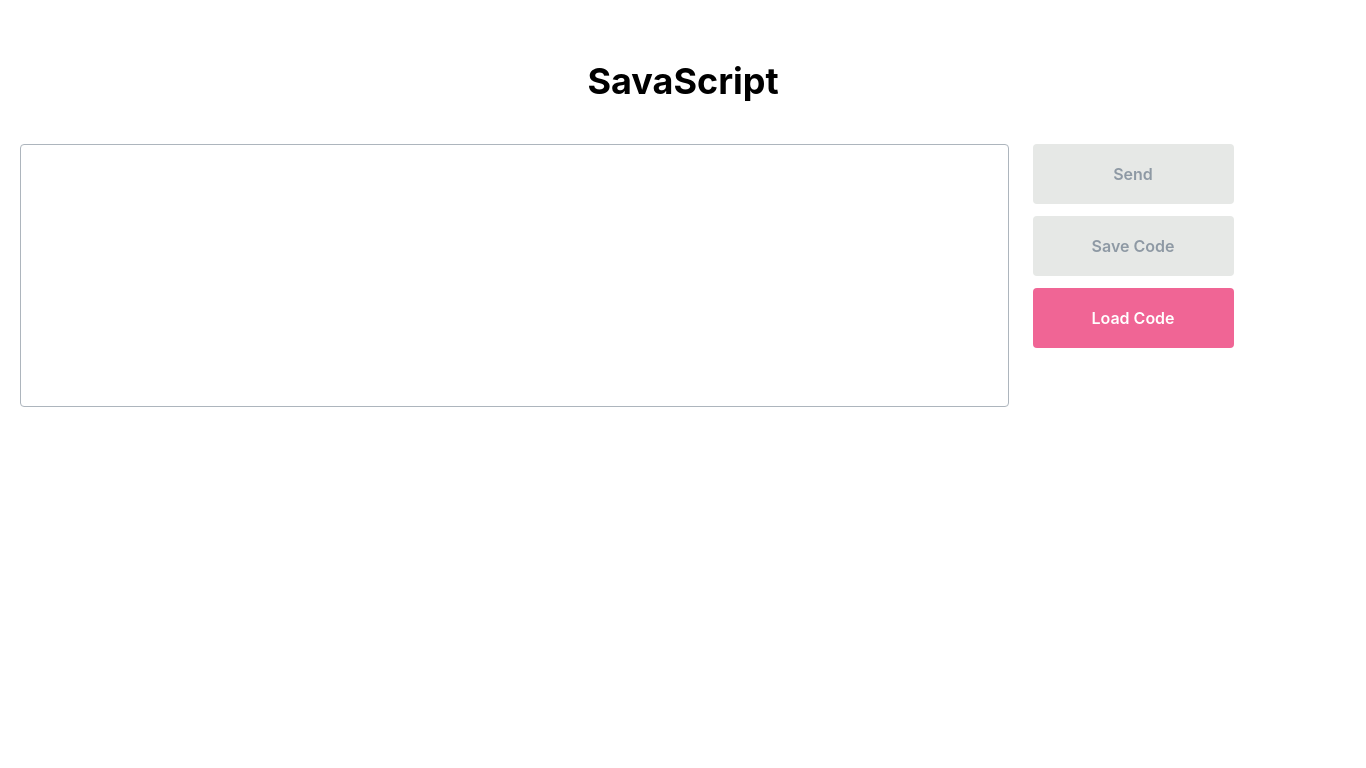
Test case: Button Load › Open modal
Click the button "Load Code" at (1134, 318), box top-left (1033, 288), bottom-right (1234, 348)
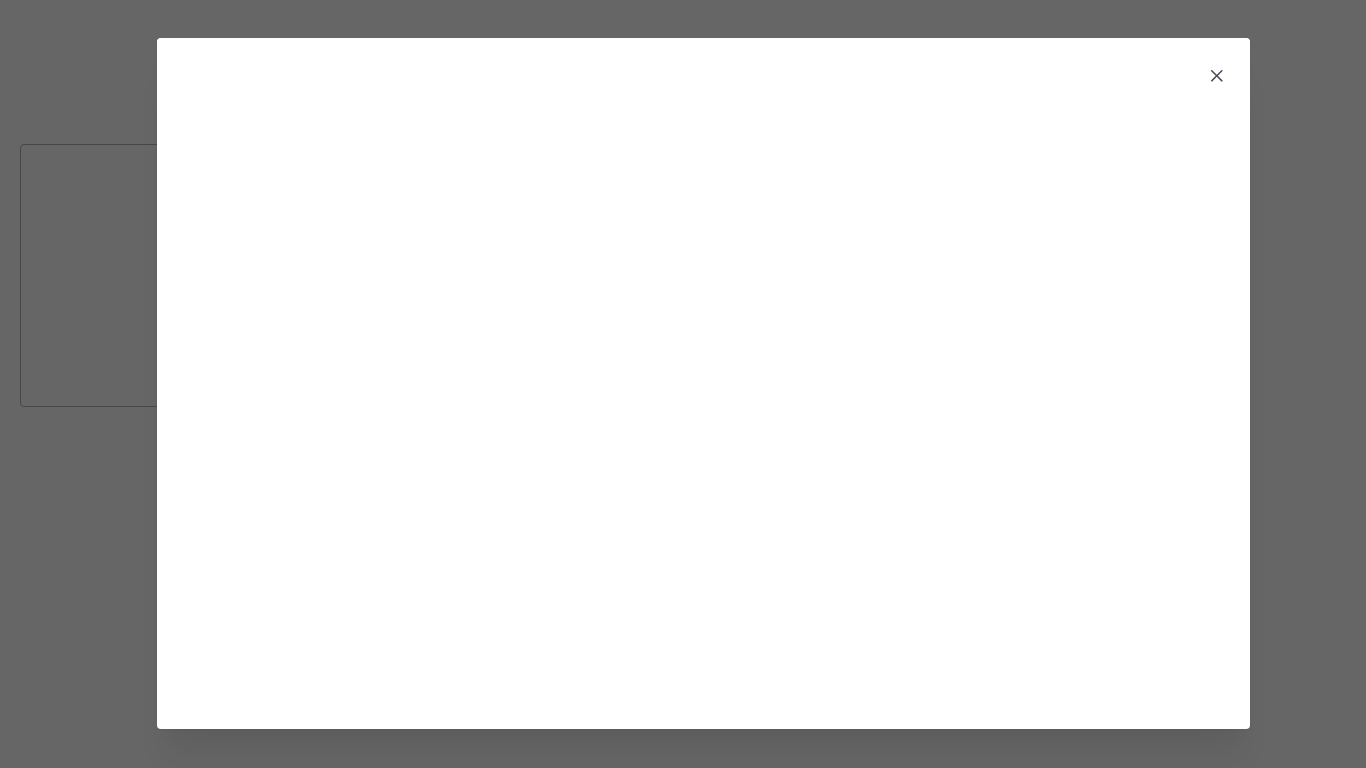
Result: the dialog is shown
